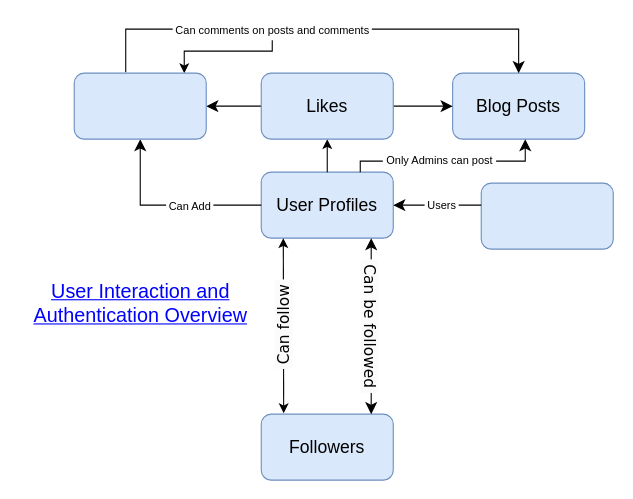
This 633x499 diagram has some shape labels left out. Here are the shapes that lost their labels. From the top down, the box of each, then its label:
(73, 72, 206, 139): Comments
(480, 182, 613, 249): Authentication
